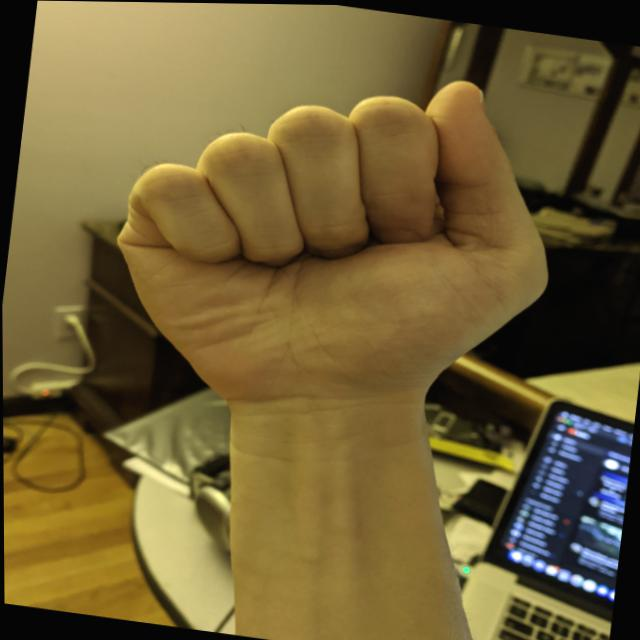A: (78, 24, 588, 461)
